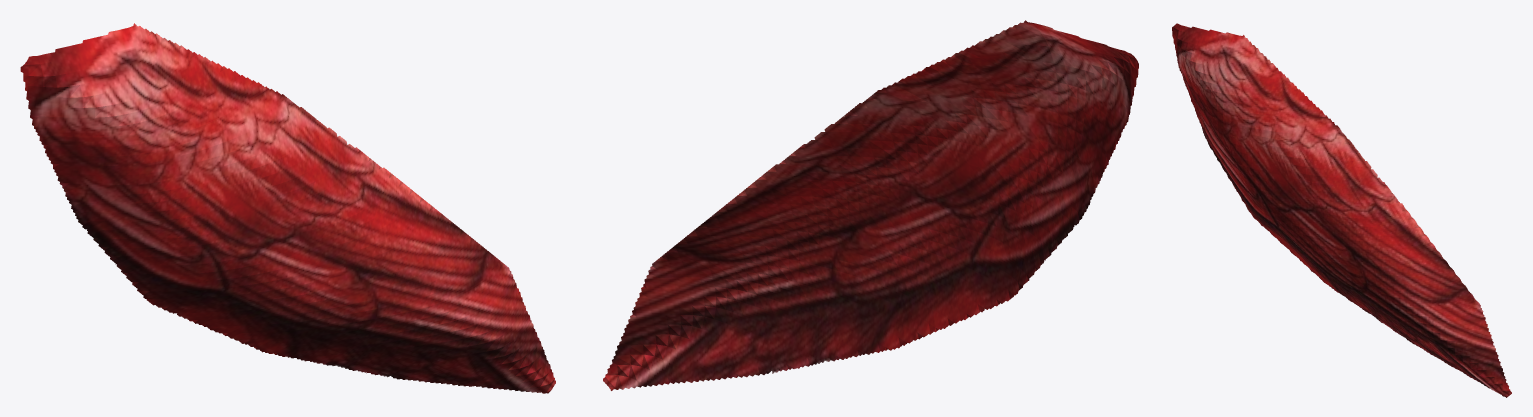
File: subject_wing_ventral.obj
3 renders of one model, left to right at view 1: azimuth 30°, elevation 25°; view 2: azimuth 150°, elevation 25°; view 3: azimuth 330°, elevation 25°, orthographic. The views are drawn at different scales.
Parts seen in each view (by area): view 1: subject_wing_ventral; view 2: subject_wing_ventral; view 3: subject_wing_ventral.
Part boxes in pixels (box(x1,y1,x2,y2)): subject_wing_ventral: box(20, 23, 555, 393); subject_wing_ventral: box(603, 20, 1138, 390); subject_wing_ventral: box(1172, 23, 1511, 397).
Bounding box in the file's own units: 1.13 × 0.9583 × 0.0992.
1 material, 1 textured.
